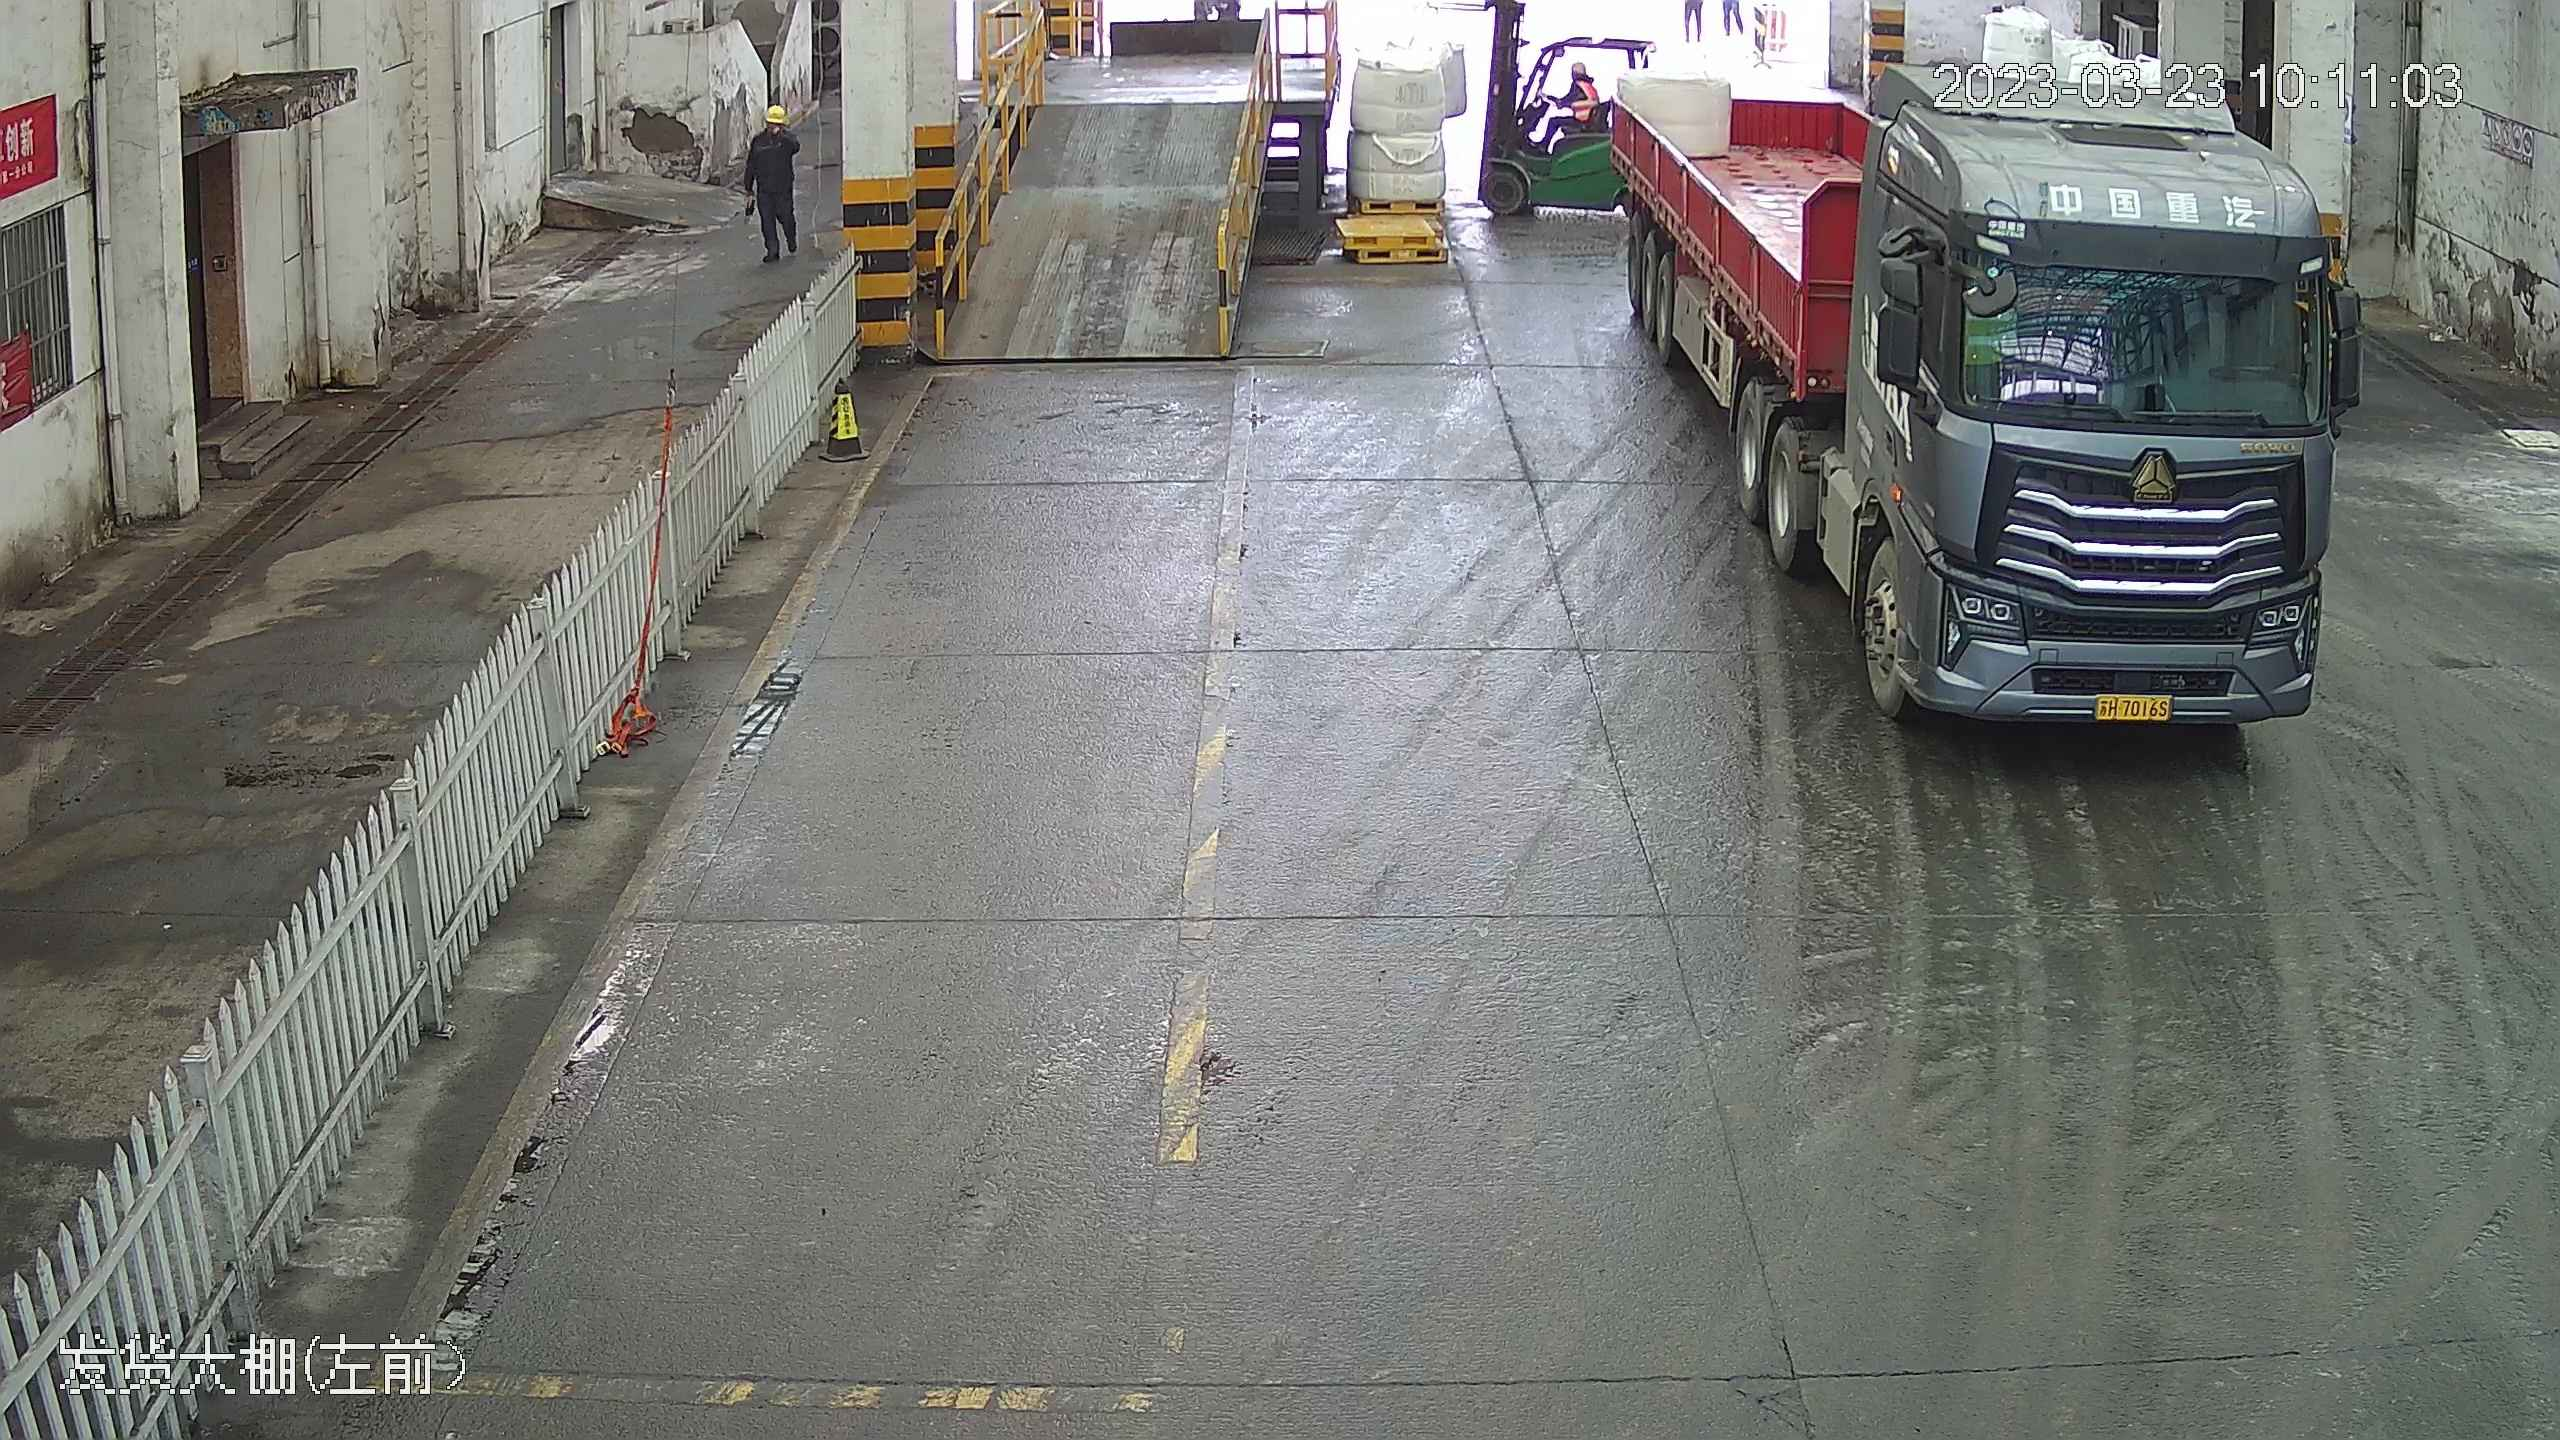head: (750, 103, 799, 158), (1562, 58, 1598, 99)
helmet: (763, 103, 790, 125), (1572, 61, 1588, 76)
people: (741, 99, 807, 267), (1539, 53, 1599, 147)
truck: (1620, 21, 2362, 748)
